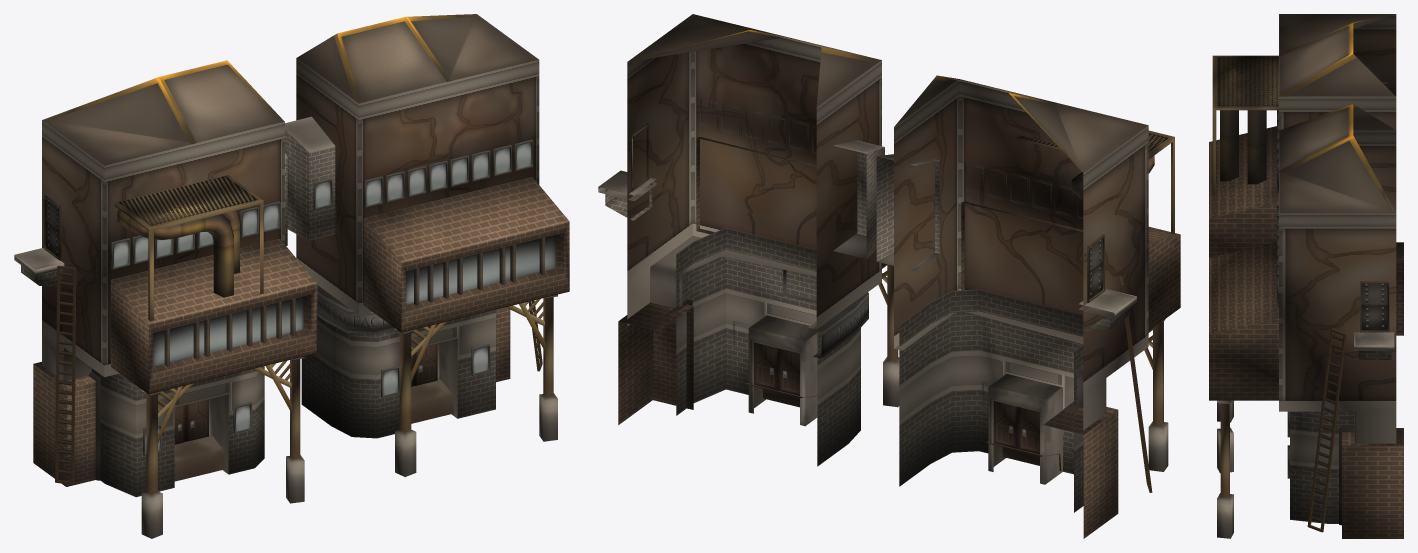
File: bdg_generic2.fbx
3 renders of one model, left to right at view 1: azimuth 30°, elevation 25°; view 2: azimuth 150°, elevation 25°; view 3: azimuth 270°, elevation 25°, orthographic. The views are drawn at different scales.
Visible parts, largest first — view 1: bdg_generic2FLIP, bdg_generic2, bdg_generic2_platform, bdg_generic2_pipes; view 2: bdg_generic2, bdg_generic2FLIP, bdg_generic2_platform; view 3: bdg_generic2FLIP, bdg_generic2, bdg_generic2_platform, bdg_generic2_pipes.
Boxes of the visible parts, x1,y1,x2,y2 form: bdg_generic2FLIP: (285,14,569,476); bdg_generic2: (14,60,317,538); bdg_generic2_platform: (114,175,263,321); bdg_generic2_pipes: (117,209,239,297); bdg_generic2: (876,75,1180,538); bdg_generic2FLIP: (598,14,899,466); bdg_generic2_platform: (1014,130,1174,234); bdg_generic2FLIP: (1209,104,1403,538); bdg_generic2: (1209,14,1403,422); bdg_generic2_platform: (1212,55,1278,194); bdg_generic2_pipes: (1220,110,1266,184).
Bounding box in the file's own units: 2543 × 1921 × 928.
